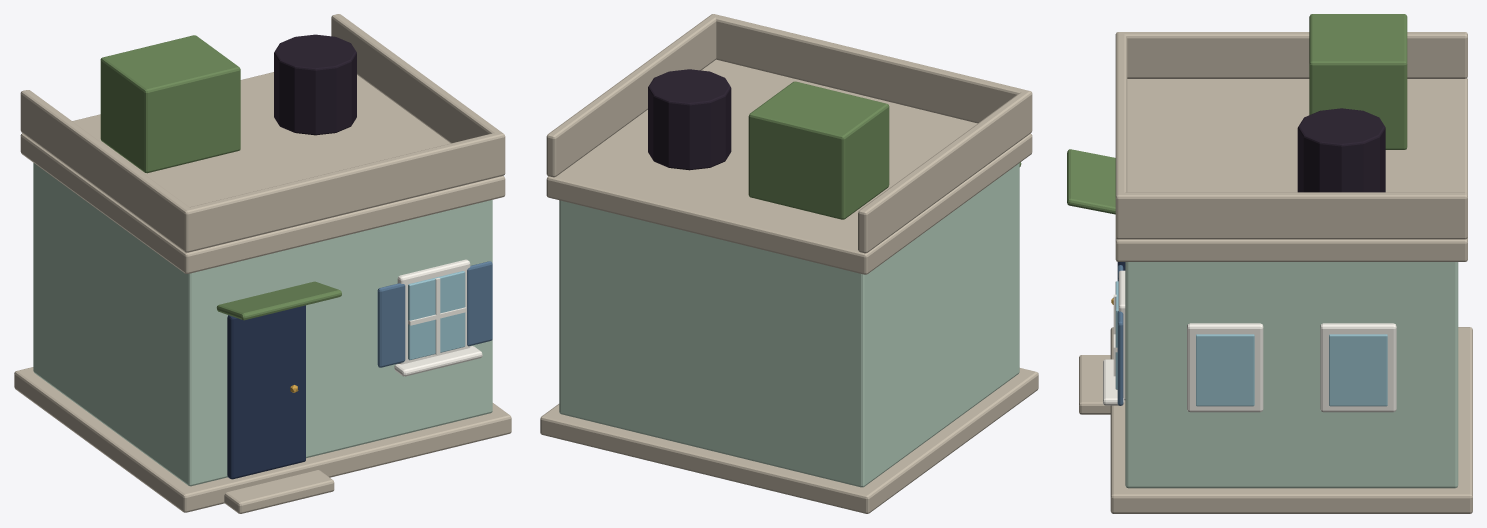
The model's file is house_c.glb.
3 renders of one model, left to right at view 1: azimuth 30°, elevation 25°; view 2: azimuth 150°, elevation 25°; view 3: azimuth 270°, elevation 25°, orthographic. The views are drawn at different scales.
Parts seen in each view (by area): view 1: house_c; view 2: house_c; view 3: house_c.
Boxes of the visible parts, x1,y1,x2,y2 form: house_c: (14,14,511,513); house_c: (540,14,1038,513); house_c: (1067,14,1472,513).
Size of the model in its own units: 4.1 by 4.07 by 4.15.
